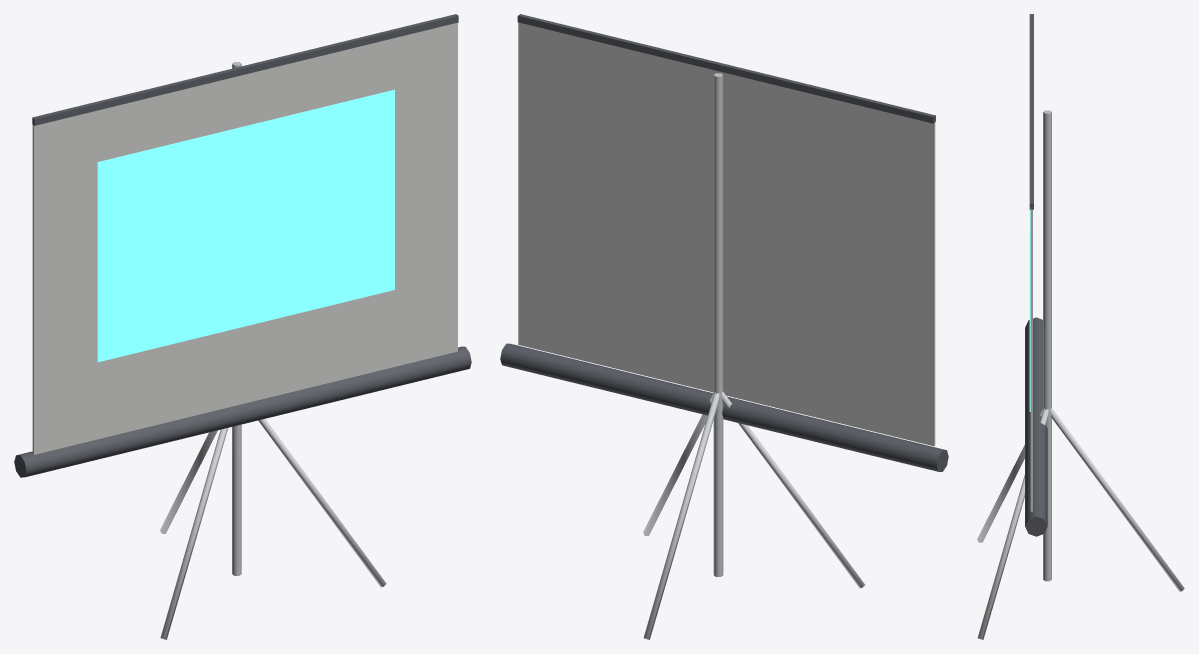
Rendered from projection_screen.glb.
The picture shows the model from 3 angles, left to right: view 1: azimuth 30°, elevation 25°; view 2: azimuth 150°, elevation 25°; view 3: azimuth 270°, elevation 25°; orthographic projection. The views are drawn at different scales.
Visible parts, largest first — view 1: projection_screen; view 2: projection_screen; view 3: projection_screen.
Boxes of the visible parts, x1,y1,x2,y2 form: projection_screen: [14, 14, 471, 639]; projection_screen: [500, 14, 948, 639]; projection_screen: [977, 14, 1184, 639].
Size of the model in its own units: 2.1 by 2.37 by 0.926.
